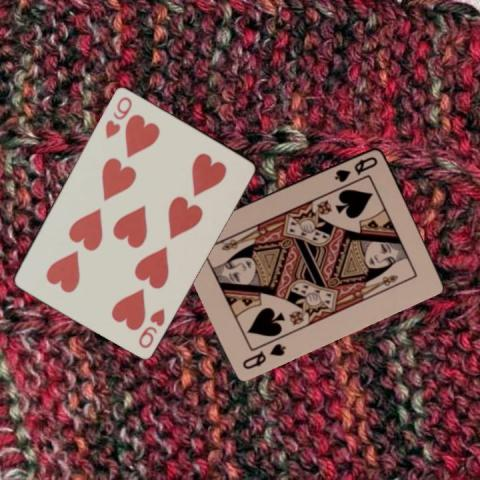9h: (102, 93, 133, 140), (135, 305, 167, 349)
Qs: (239, 340, 287, 371), (331, 153, 380, 183)
